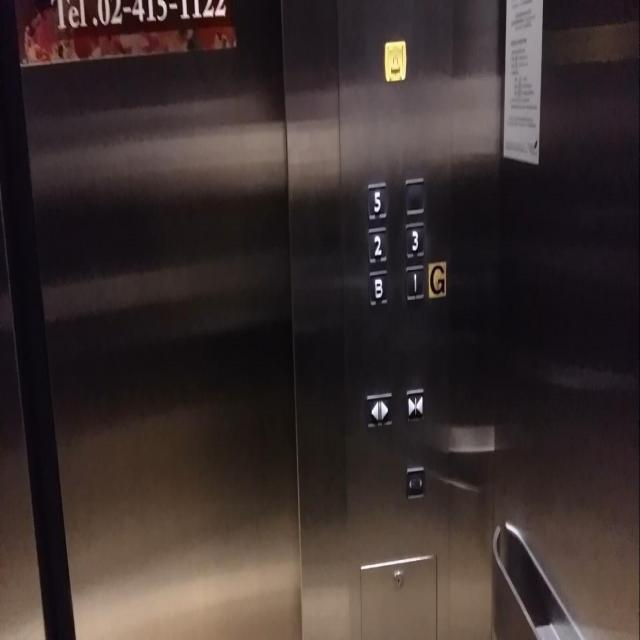1: (401, 261, 427, 305)
2: (364, 222, 390, 266)
3: (402, 217, 427, 261)
5: (363, 178, 389, 222)
B: (365, 266, 391, 310)
G: (426, 258, 448, 299)
alarm: (383, 38, 407, 84)
close: (402, 384, 427, 424)
empty: (401, 174, 427, 218)
open: (364, 388, 394, 431), (403, 462, 427, 502)
